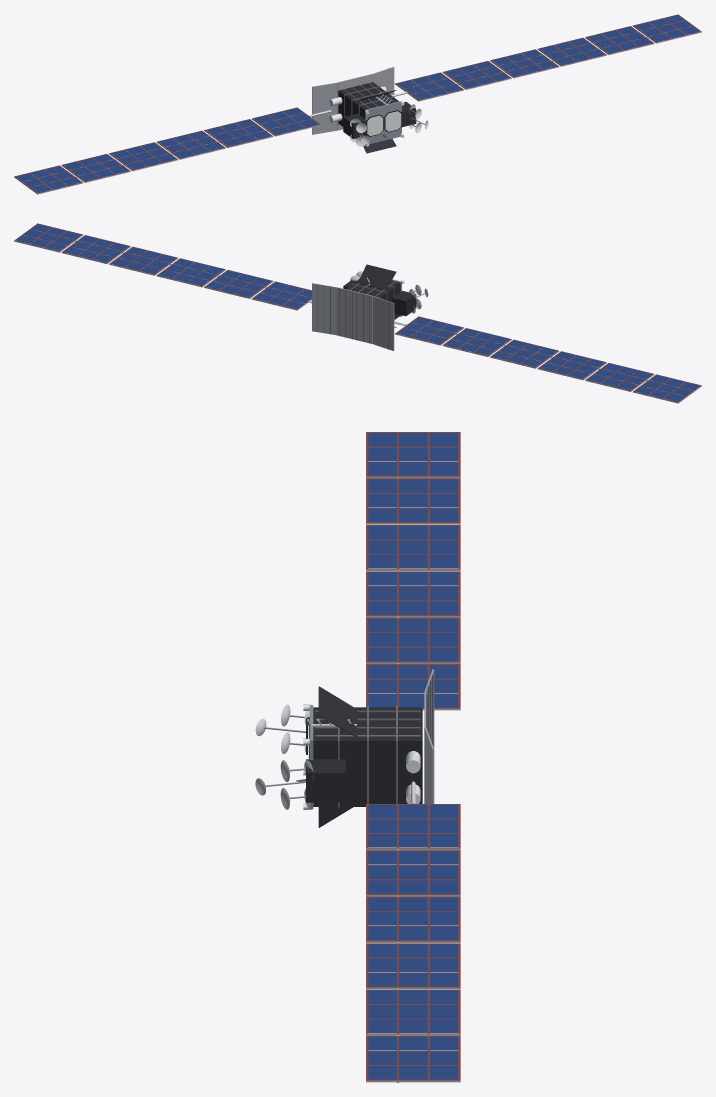
The model's file is wgs.glb.
The picture shows the model from 3 angles, top to bottom: view 1: azimuth 30°, elevation 25°; view 2: azimuth 150°, elevation 25°; view 3: azimuth 270°, elevation 25°; orthographic projection. The views are drawn at different scales.
Visible parts, largest first — view 1: solar-panel, body, foil; view 2: solar-panel, body, foil; view 3: solar-panel, body, foil.
Boxes of the visible parts, <box> form: solar-panel: <box>16,15,699,192</box>; body: <box>14,14,701,194</box>; foil: <box>338,82,416,153</box>; solar-panel: <box>16,224,699,401</box>; body: <box>14,223,701,403</box>; foil: <box>343,264,416,327</box>; solar-panel: <box>308,433,458,1079</box>; body: <box>255,432,460,1082</box>; foil: <box>306,686,422,827</box>.
Bounding box in the file's own units: 42.2 × 3.42 × 5.65.
